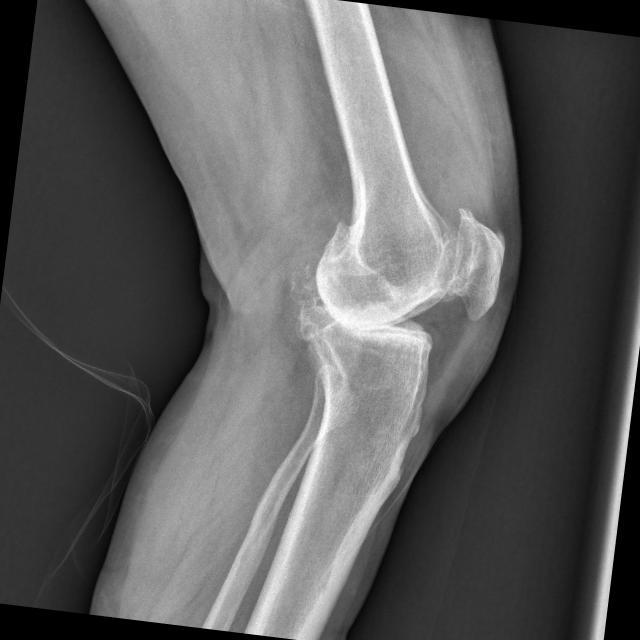Knee: (296, 194, 512, 398)
